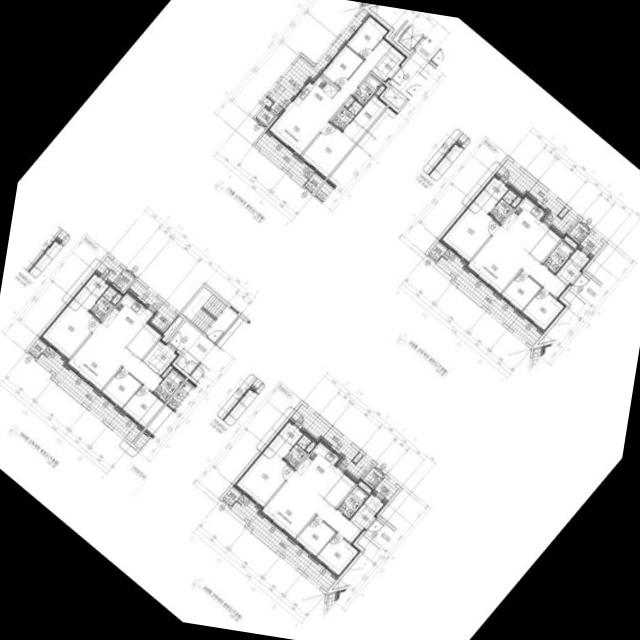background: (0, 0, 640, 640)
space_balconi: (267, 9, 368, 115), (232, 494, 336, 592), (438, 249, 541, 347), (38, 346, 141, 443), (291, 404, 374, 480), (496, 159, 579, 235), (255, 133, 314, 185), (129, 280, 178, 333), (293, 75, 339, 120), (97, 256, 124, 283), (580, 232, 604, 256), (374, 478, 398, 502)
space_bedroom: (39, 298, 100, 361), (235, 446, 294, 507), (440, 201, 499, 262), (300, 123, 355, 179), (345, 15, 389, 59), (121, 385, 164, 429), (522, 288, 565, 331), (316, 534, 359, 577), (321, 45, 363, 88), (100, 369, 141, 410), (296, 516, 335, 557), (502, 271, 541, 311)
space_dressroom: (72, 272, 110, 311), (267, 421, 303, 458), (473, 176, 508, 213), (353, 96, 387, 130), (343, 120, 365, 143)
space_elevator: (392, 21, 426, 55)
space_elevator_hall: (389, 37, 440, 94), (168, 321, 216, 364), (363, 518, 395, 550), (569, 273, 600, 304)
space_front: (142, 339, 178, 377), (371, 54, 402, 83), (349, 504, 376, 531), (555, 259, 581, 286)
space_kitchen: (100, 291, 154, 346), (498, 197, 549, 254), (293, 442, 343, 499)
space_living_room: (266, 38, 393, 157), (261, 474, 362, 545), (467, 229, 568, 299), (66, 324, 163, 392)
space_other: (127, 322, 162, 359), (324, 473, 357, 508), (530, 228, 562, 263), (383, 83, 409, 110), (175, 349, 199, 375), (161, 316, 183, 342), (114, 271, 134, 292), (364, 494, 385, 514), (570, 249, 590, 269), (387, 46, 407, 65), (256, 107, 275, 127), (364, 468, 383, 488), (570, 223, 589, 242), (563, 236, 577, 250), (358, 481, 371, 495), (375, 84, 387, 97), (161, 366, 173, 378), (111, 294, 122, 305), (305, 442, 316, 453), (262, 97, 272, 108), (511, 197, 521, 208), (353, 453, 363, 463), (558, 208, 568, 218), (345, 97, 354, 108)
space_outdoor_room: (305, 173, 324, 193), (28, 339, 47, 358), (428, 242, 447, 261), (223, 487, 241, 506)
space_staircase: (182, 287, 238, 343)
space_toilet: (153, 369, 185, 403), (337, 486, 369, 519), (543, 241, 575, 274), (331, 100, 363, 131), (352, 74, 382, 106), (489, 190, 517, 223), (89, 287, 117, 320), (284, 435, 311, 468)
